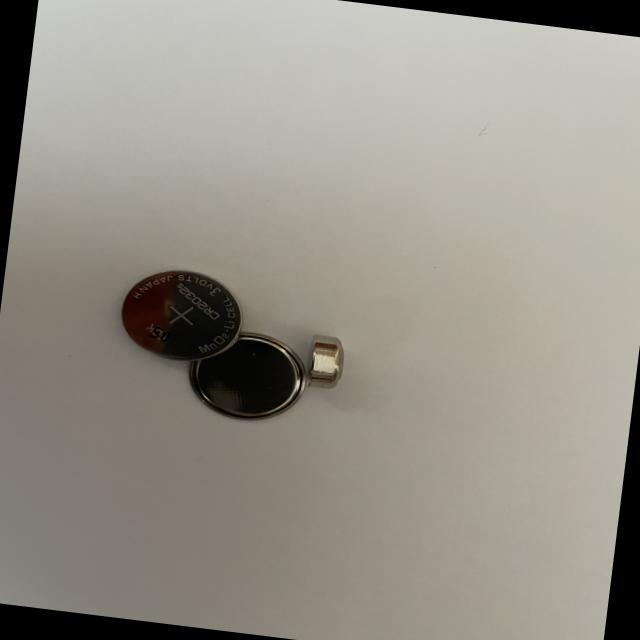COIN: (114, 260, 250, 370), (182, 324, 308, 428), (298, 328, 350, 394)
